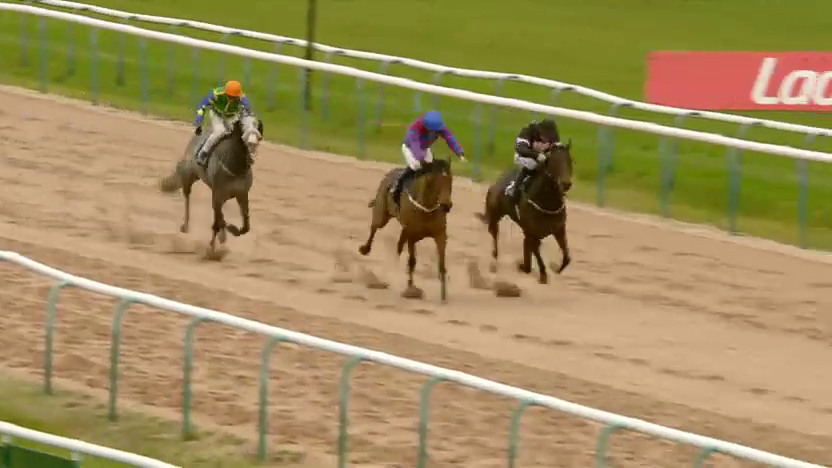jockey: (388, 114, 458, 206), (192, 83, 257, 169), (503, 121, 567, 202)
